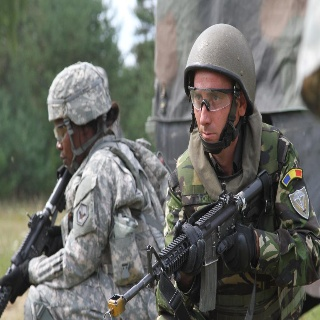rifle: (104, 169, 278, 320), (1, 161, 71, 320)
